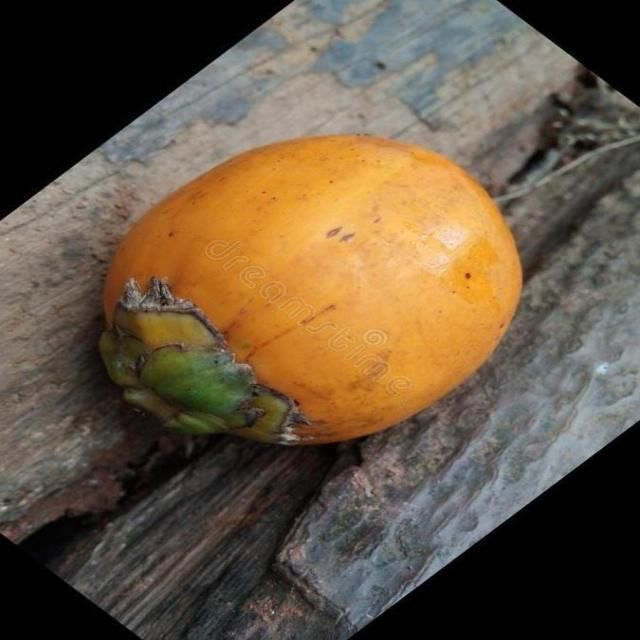good: (97, 135, 524, 448)
